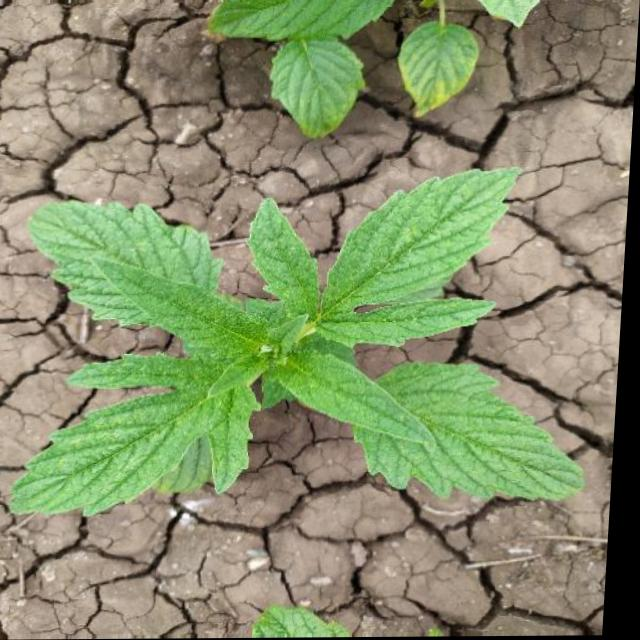crop: (12, 165, 610, 530)
